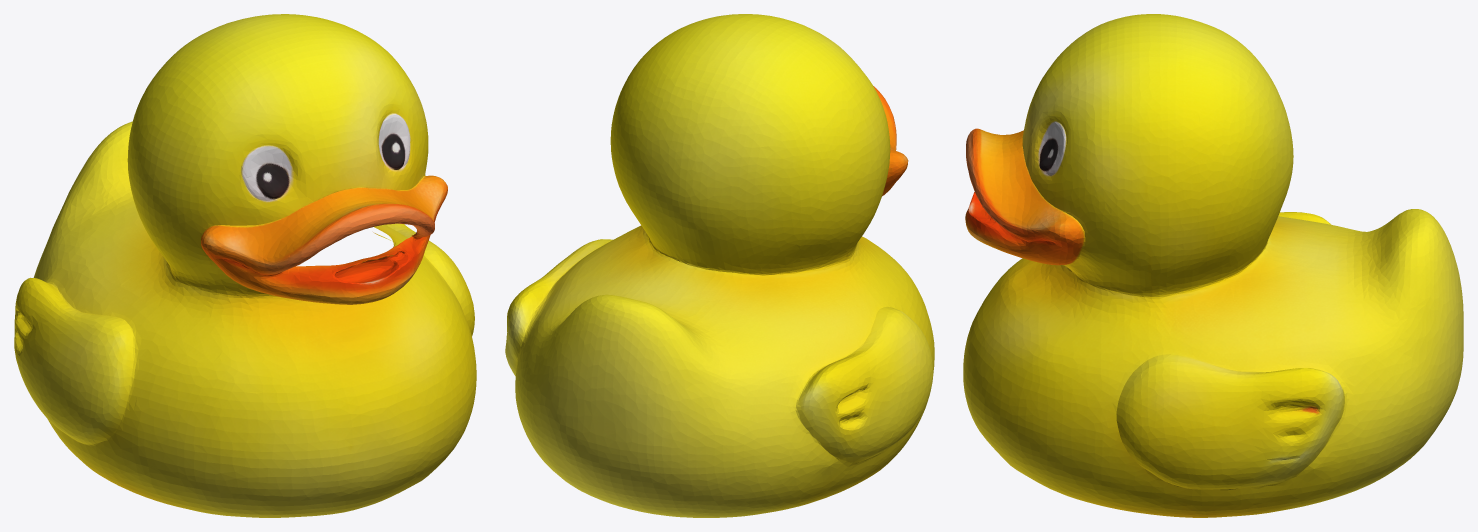
The model's file is duck.glb.
The picture shows the model from 3 angles, left to right: view 1: azimuth 30°, elevation 25°; view 2: azimuth 150°, elevation 25°; view 3: azimuth 270°, elevation 25°; orthographic projection. The views are drawn at different scales.
Visible parts, largest first — view 1: world; view 2: world; view 3: world.
Boxes of the visible parts, bbox=[...] form: world: bbox=[14, 14, 476, 517]; world: bbox=[505, 14, 934, 517]; world: bbox=[963, 14, 1463, 517].
Size of the model in its own units: 0.894 by 0.9304 by 0.9996.
Materials: 1 (1 with a texture image).
